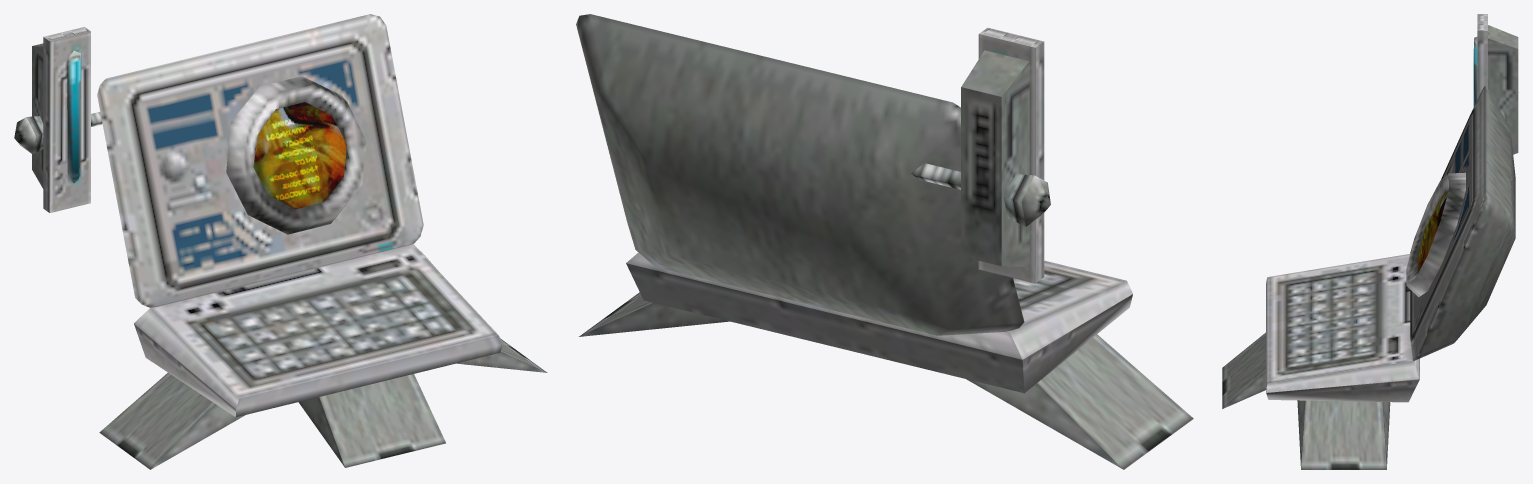
File: eqp_medic_medical_console_l0.fbx
The picture shows the model from 3 angles, left to right: view 1: azimuth 30°, elevation 25°; view 2: azimuth 150°, elevation 25°; view 3: azimuth 270°, elevation 25°; orthographic projection. The views are drawn at different scales.
Visible parts, largest first — view 1: mesh_node; view 2: mesh_node; view 3: mesh_node.
Part boxes in pixels (x1,y1,x2,y2): mesh_node: [14, 14, 547, 469]; mesh_node: [576, 14, 1193, 469]; mesh_node: [1222, 14, 1518, 469].
Size of the model in its own units: 0.4291 by 0.3479 by 0.317.
